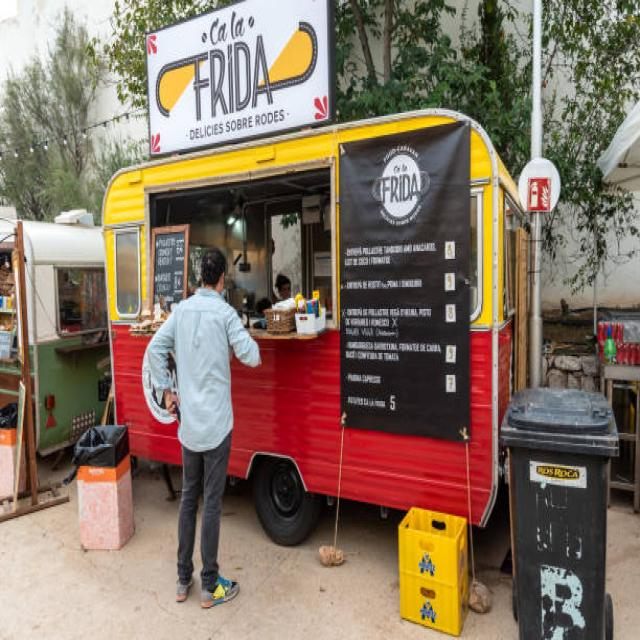Emperan: (97, 0, 556, 609)
